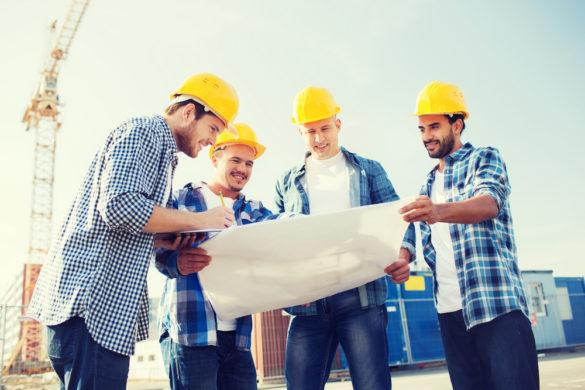helmet: (170, 74, 241, 125), (412, 81, 470, 120), (209, 123, 267, 156), (296, 86, 340, 125)
